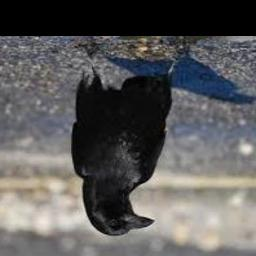Crow: (72, 44, 181, 237)
